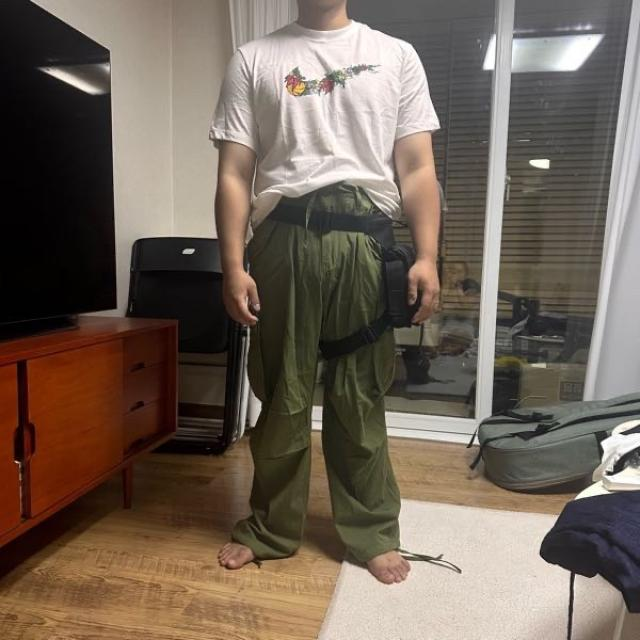cottonpants: (246, 182, 399, 560)
shortsleeve: (208, 20, 442, 219)
